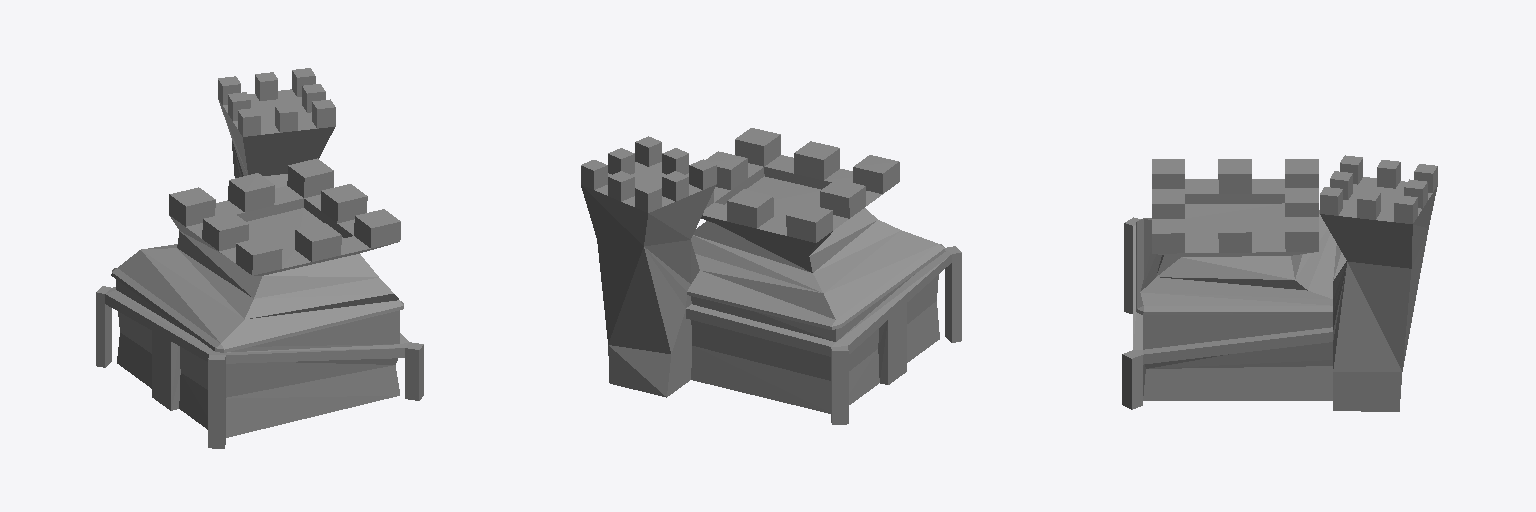
File: CUARTEL.obj
The picture shows the model from 3 angles: view 1: azimuth 30°, elevation 25°; view 2: azimuth 150°, elevation 25°; view 3: azimuth 270°, elevation 25°; orthographic projection.
Visible parts, largest first — view 1: Plane_Plane; view 2: Plane_Plane; view 3: Plane_Plane.
Boxes of the visible parts, <box> form: Plane_Plane: <box>96,68,423,448</box>; Plane_Plane: <box>581,128,961,424</box>; Plane_Plane: <box>1122,155,1437,411</box>.
Size of the model in its own units: 7.5 by 6.51 by 8.47.